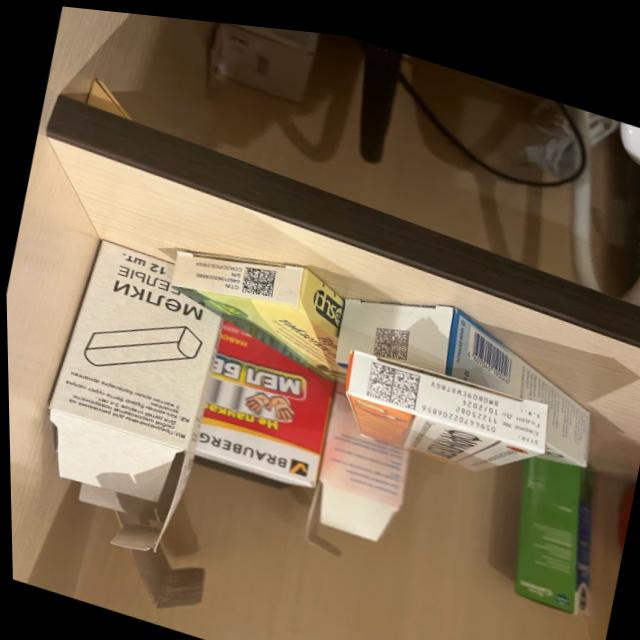datamatrix: (360, 350, 422, 404), (364, 311, 412, 359), (236, 255, 277, 297)
